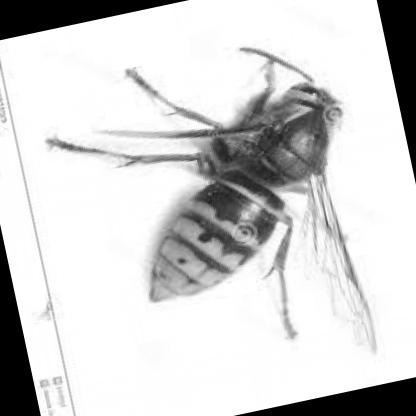european: (36, 26, 400, 414)
